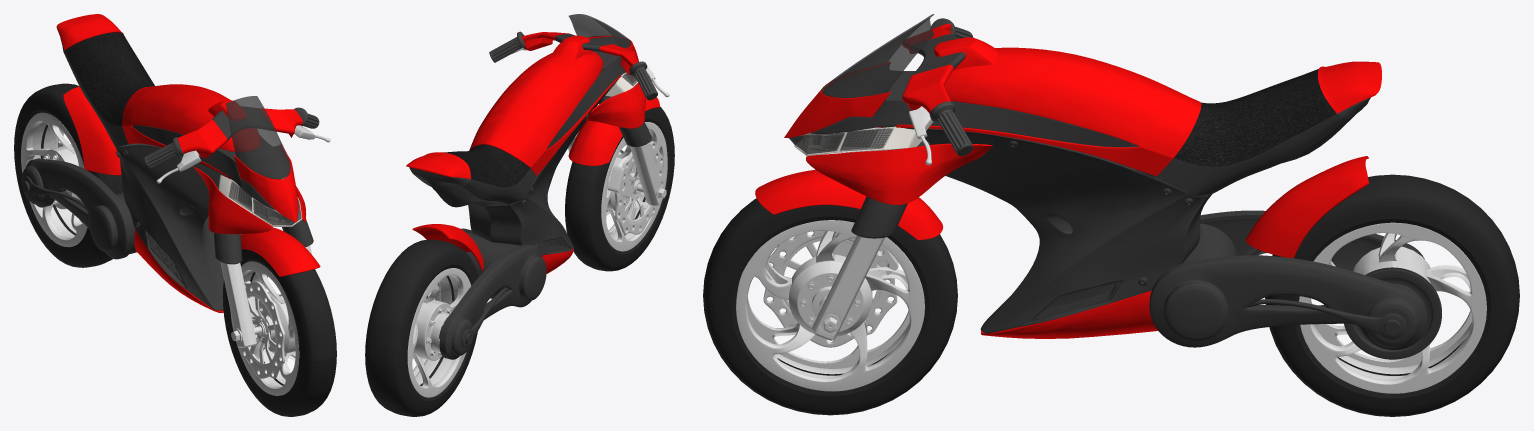
Rendered from free_concept_sport_bike.glb.
3 renders of one model, left to right at view 1: azimuth 30°, elevation 25°; view 2: azimuth 150°, elevation 25°; view 3: azimuth 270°, elevation 25°, orthographic. The views are drawn at different scales.
Parts seen in each view (by area): view 1: 3DSMeshMatrix (×7), objCylind4, Object_45, Object_48, objObject2, objCylind8, Object_46, Object_49, Object_47, Object_50; view 2: 3DSMeshMatrix (×7), objCylind4, Object_45, objObject2, Object_48, objCylind8, Object_46, Object_49; view 3: objCylind4, 3DSMeshMatrix (×6), Object_45, objObject2, Object_48, objCylind8, Object_49, Object_46, Object_50.
Boxes of the visible parts, bbox=[...] form: 3DSMeshMatrix (×7): bbox=[14, 83, 336, 416]; objCylind4: bbox=[21, 38, 313, 310]; Object_45: bbox=[56, 14, 320, 312]; Object_48: bbox=[65, 32, 154, 125]; objObject2: bbox=[21, 112, 87, 247]; objCylind8: bbox=[220, 245, 311, 347]; Object_46: bbox=[144, 107, 319, 168]; Object_49: bbox=[218, 174, 302, 226]; Object_47: bbox=[156, 125, 330, 183]; Object_50: bbox=[227, 181, 283, 220]; 3DSMeshMatrix (×7): bbox=[365, 14, 674, 416]; objCylind4: bbox=[409, 33, 651, 359]; Object_45: bbox=[406, 32, 659, 273]; objObject2: bbox=[407, 268, 471, 397]; Object_48: bbox=[444, 144, 530, 187]; objCylind8: bbox=[568, 132, 666, 205]; Object_46: bbox=[489, 31, 657, 100]; Object_49: bbox=[605, 72, 637, 96]; objCylind4: bbox=[810, 34, 1441, 359]; 3DSMeshMatrix (×6): bbox=[703, 14, 1519, 416]; Object_45: bbox=[755, 23, 1381, 338]; objObject2: bbox=[1299, 222, 1486, 393]; Object_48: bbox=[1174, 69, 1336, 166]; objCylind8: bbox=[812, 235, 884, 340]; Object_49: bbox=[794, 126, 921, 155]; Object_46: bbox=[929, 18, 973, 156]; Object_50: bbox=[813, 128, 893, 148].
Size of what is drawn, in the model's own units: 113 by 178 by 336.
Materials: 9 (2 with a texture image).
